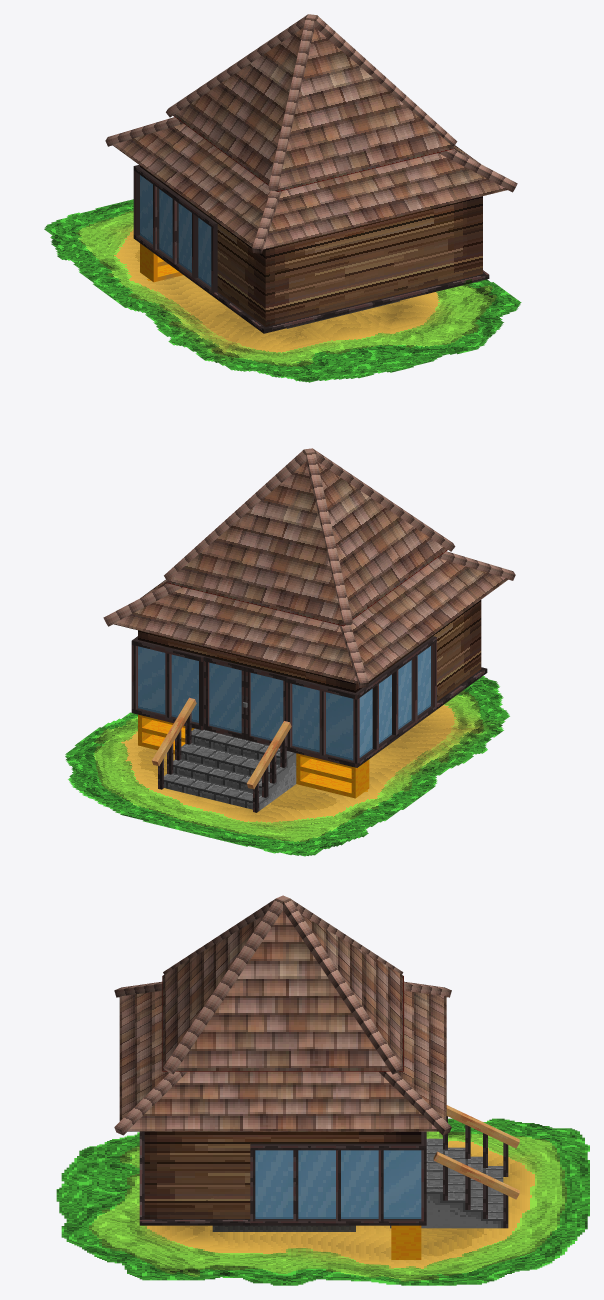
File: MushollaTC.gltf
3 renders of one model, top to bottom at view 1: azimuth 30°, elevation 25°; view 2: azimuth 150°, elevation 25°; view 3: azimuth 270°, elevation 25°, orthographic. The views are drawn at different scales.
Parts seen in each view (by area): view 1: cube (×12), pyramid (×2); view 2: cube (×19), pyramid (×2); view 3: cube (×20), pyramid (×2).
Part boxes in pixels (box(x1,y1,x2,y2)): cube (×12): box(44, 14, 521, 382); pyramid (×2): box(112, 27, 508, 249); cube (×19): box(65, 449, 515, 856); pyramid (×2): box(113, 461, 508, 683); cube (×20): box(56, 898, 589, 1285); pyramid (×2): box(119, 910, 446, 1131).
Bounding box in the file's own units: 9.94 × 8.31 × 14.31.
1 material, 1 textured.
